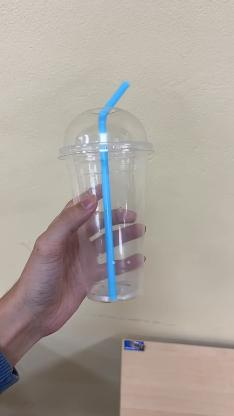Plastic Cup: (58, 106, 158, 300)
